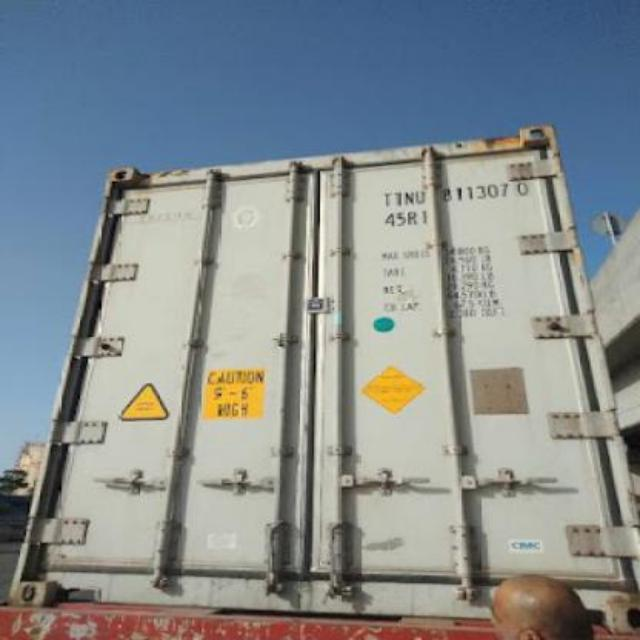0: (486, 182, 502, 198), (516, 181, 532, 197)
1: (464, 184, 476, 200), (454, 186, 466, 200)
3: (474, 183, 488, 201)
7: (500, 181, 512, 197)
8: (438, 186, 454, 202)
N: (404, 192, 416, 204)
T: (382, 192, 394, 206), (392, 192, 404, 204)
U: (414, 190, 428, 204)
